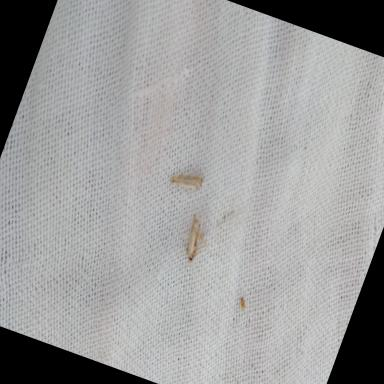pbw: (178, 213, 221, 266), (168, 166, 206, 194)
